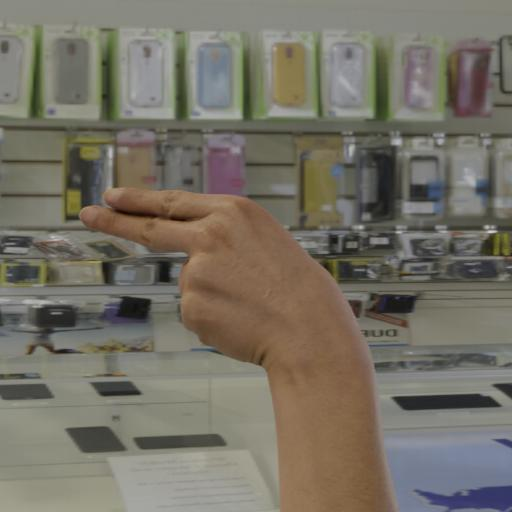H: (70, 169, 381, 402)
